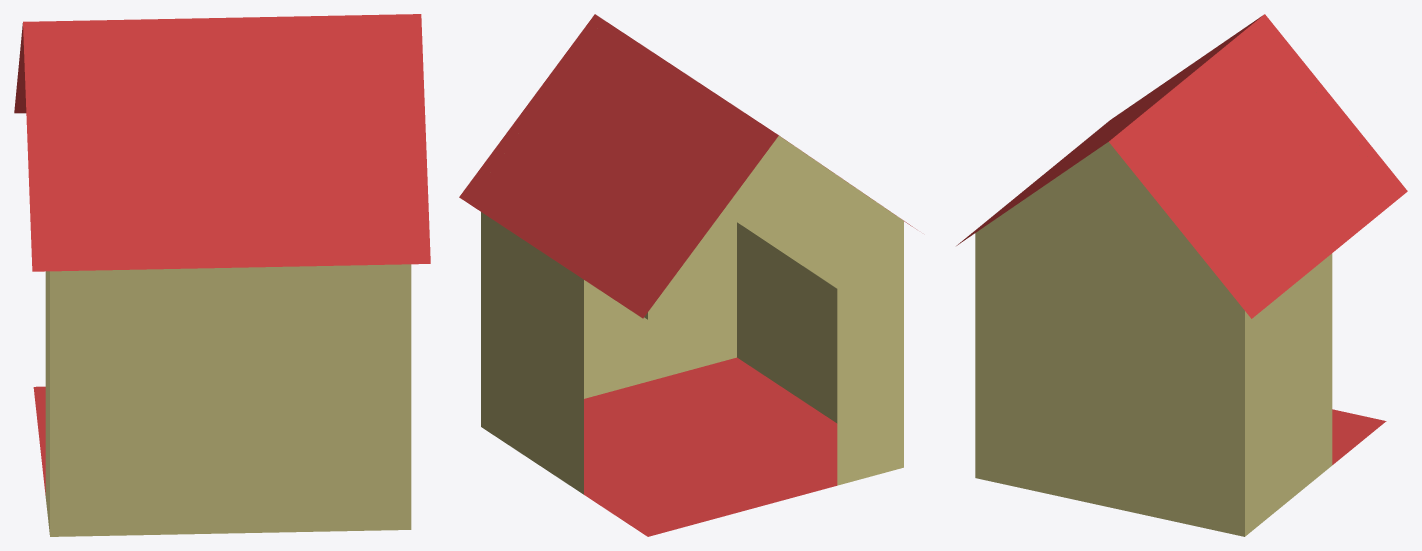
3 renders of one model, left to right at view 1: azimuth 30°, elevation 25°; view 2: azimuth 150°, elevation 25°; view 3: azimuth 270°, elevation 25°, orthographic. The views are drawn at different scales.
Bounding box in the file's own units: 21.6 × 21.49 × 19.49.
